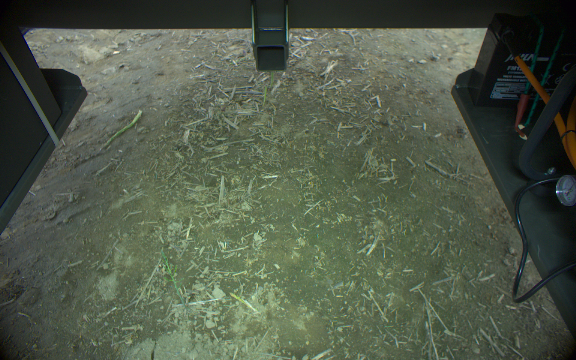aspa: (100, 109, 142, 150), (261, 85, 268, 110), (269, 70, 274, 89)
